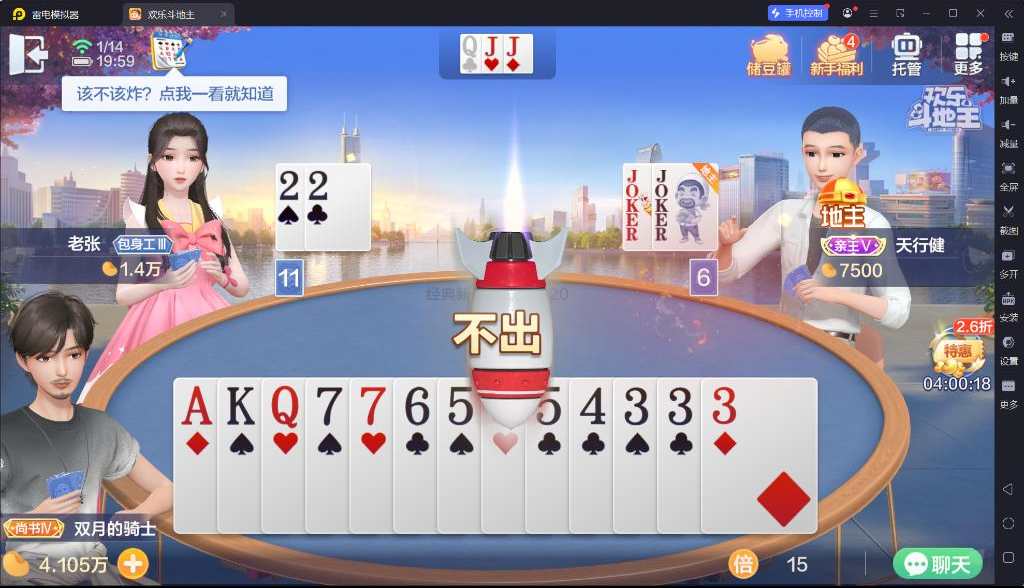A: (180, 383, 215, 428)
J: (482, 35, 500, 58), (506, 35, 522, 58)
JOKER: (624, 166, 642, 217)
K: (222, 383, 258, 429)
Q: (267, 383, 302, 429), (461, 35, 479, 59)
five: (442, 384, 476, 427), (535, 384, 563, 428)
four: (575, 384, 609, 427)
joker: (653, 165, 669, 216)
seven: (354, 380, 389, 428), (311, 382, 344, 428)
six: (398, 383, 434, 427)
three: (664, 384, 695, 427), (708, 383, 738, 427), (620, 384, 650, 427)
two: (277, 169, 302, 201), (307, 169, 330, 201)
